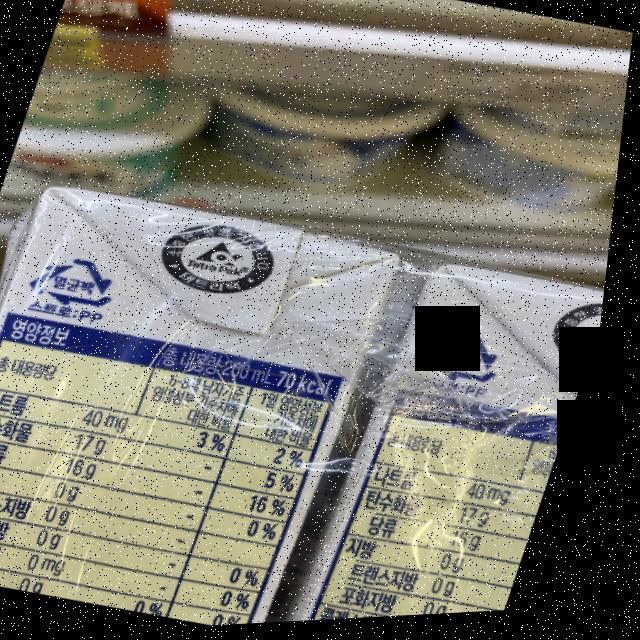SterilizedPack: (29, 246, 132, 318), (421, 328, 520, 397)
